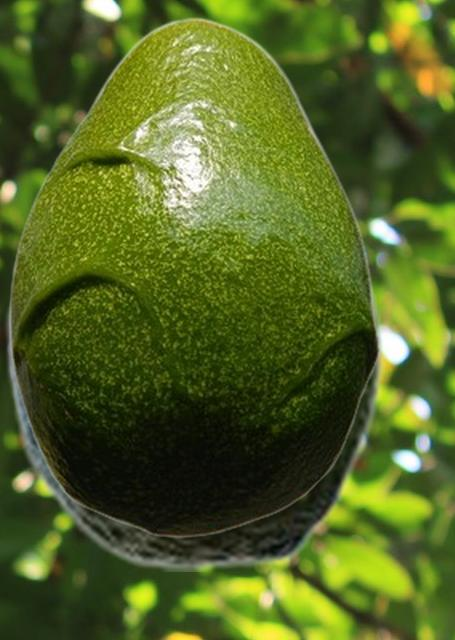avocado: (8, 16, 379, 537), (3, 242, 383, 570)
